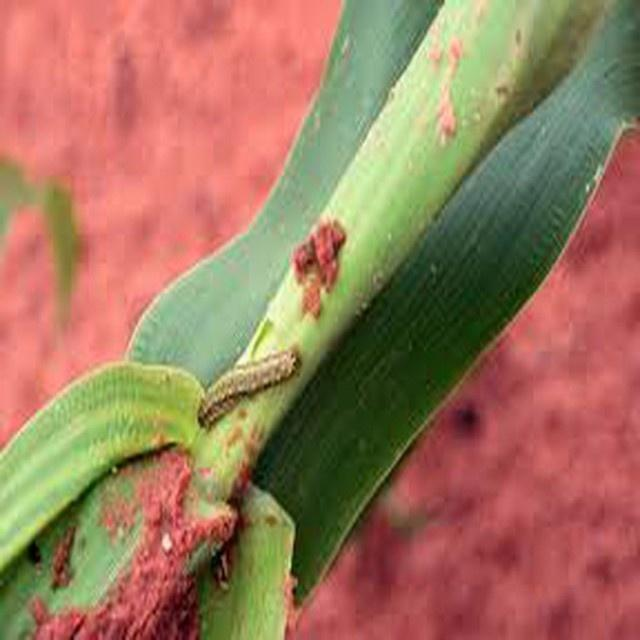gusano_cogollero: (192, 343, 298, 435)
